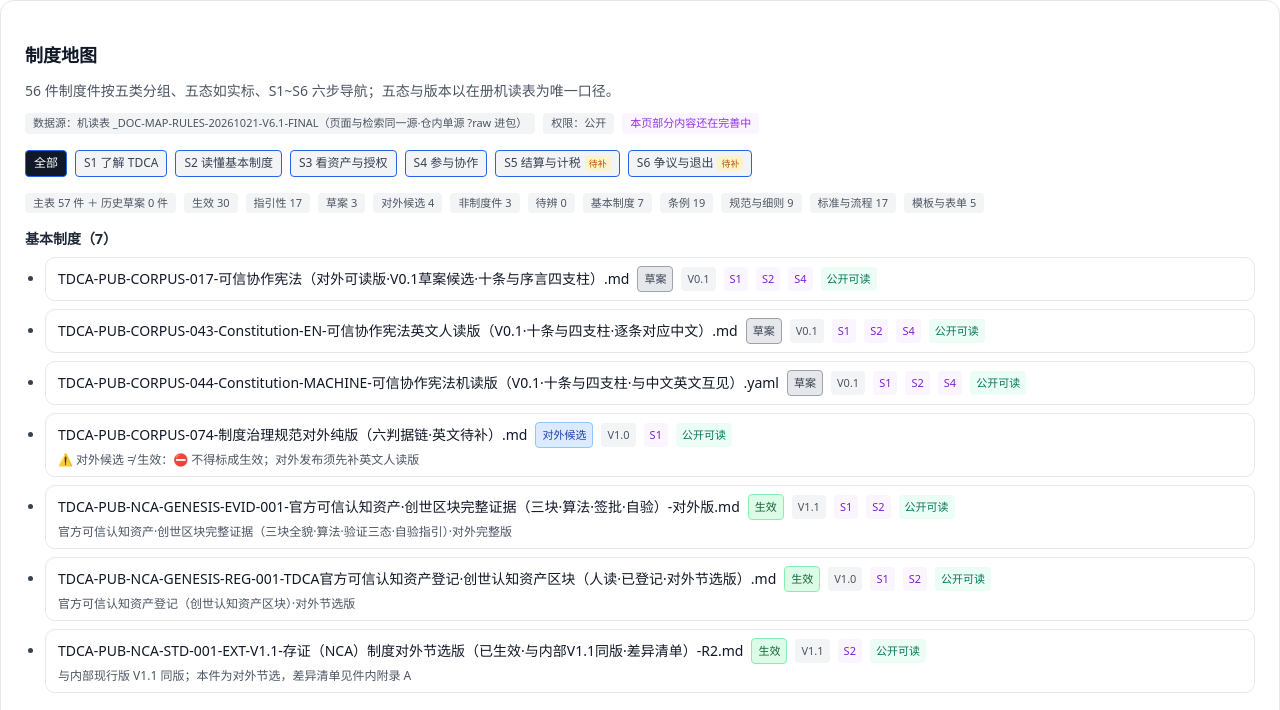
Test case: 验③ 渲染（R-1/R-4/R-5/R-6/R-7） › R-7 S5/S6 点步出「待补」横幅；步筛生效
Click the button "S5 结算与计税". click: point(558, 163)
box: [495,150,620,176]
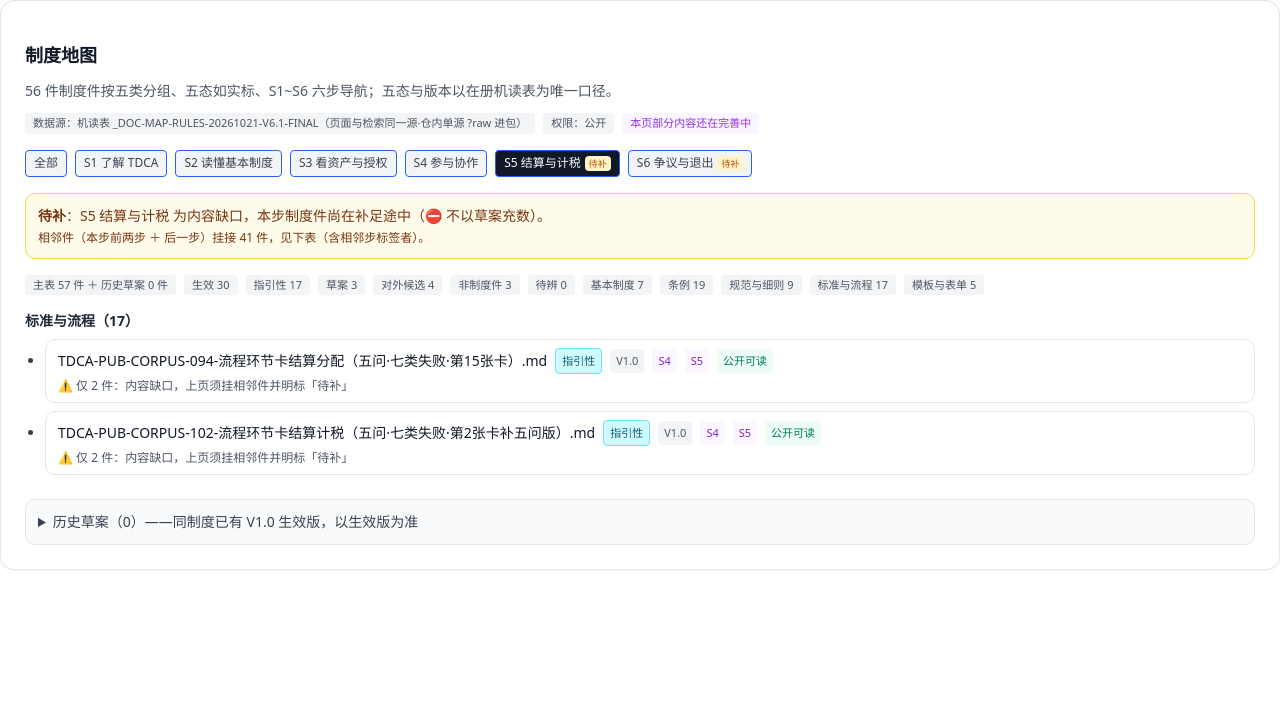
Expected: the element with test id "gap-banner" shows "待补", [38,206,66,224]
Expected: the number of list items with test id "doc-row" is 2, [45,339,1255,403]; [45,411,1255,475]
Click the button "S6 争议与退出". click: point(690, 163)
box: [628,150,752,176]
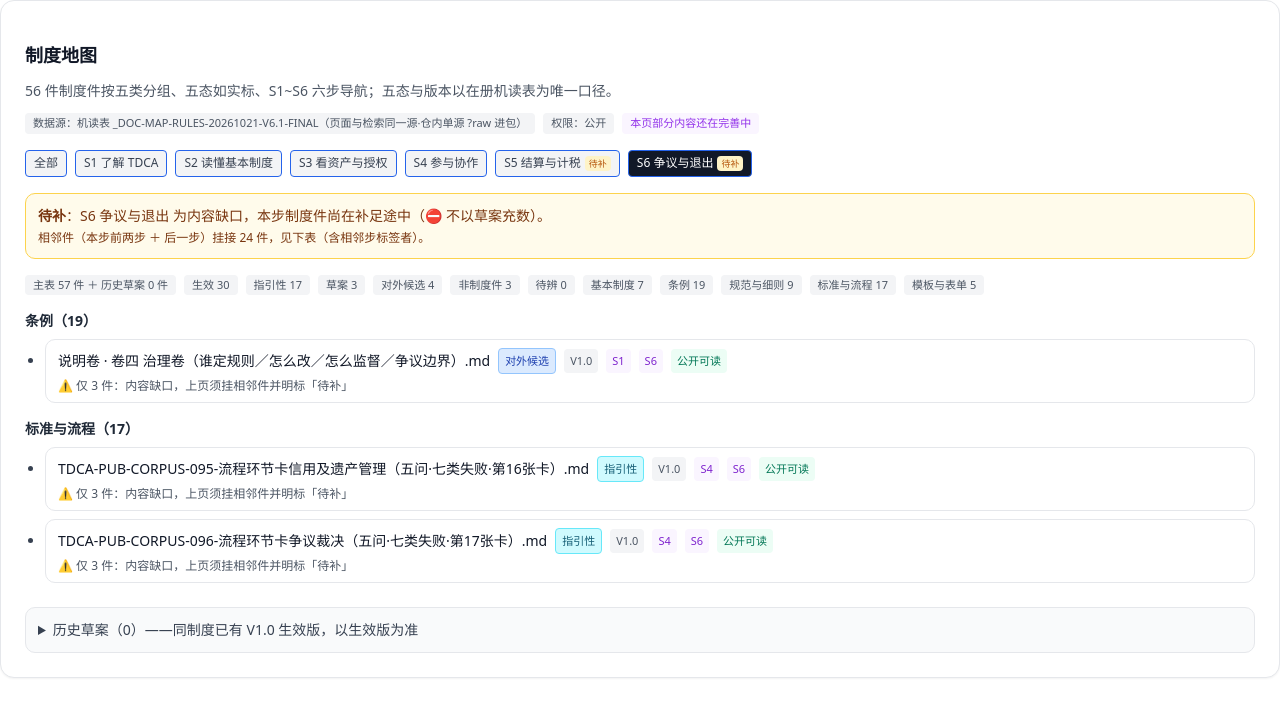
Expected: the element with test id "gap-banner" shows "待补", [38,206,66,224]
Expected: the number of list items with test id "doc-row" is 3, [45,339,1255,403]; [45,447,1255,511]; [45,519,1255,583]
